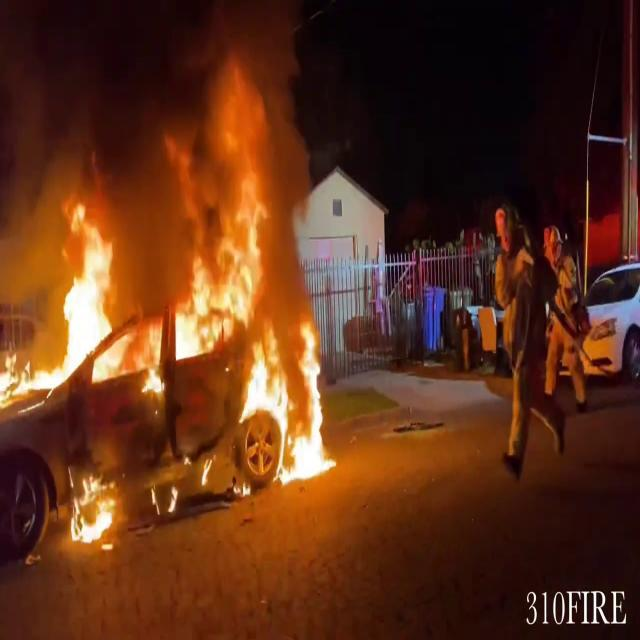Fire: (1, 98, 336, 490), (68, 466, 124, 548)
